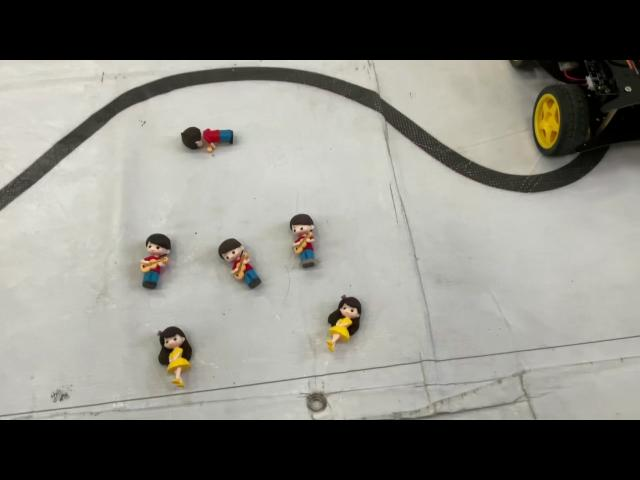man: (218, 237, 262, 291), (140, 231, 172, 288), (288, 213, 320, 269), (182, 125, 234, 153)
woman: (156, 324, 194, 388), (326, 292, 362, 356)
